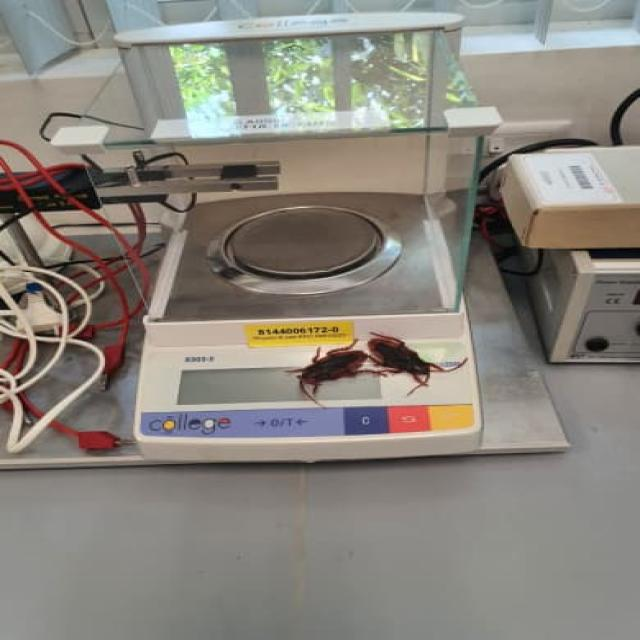Cockroach: (343, 325, 482, 389), (286, 335, 380, 394)
